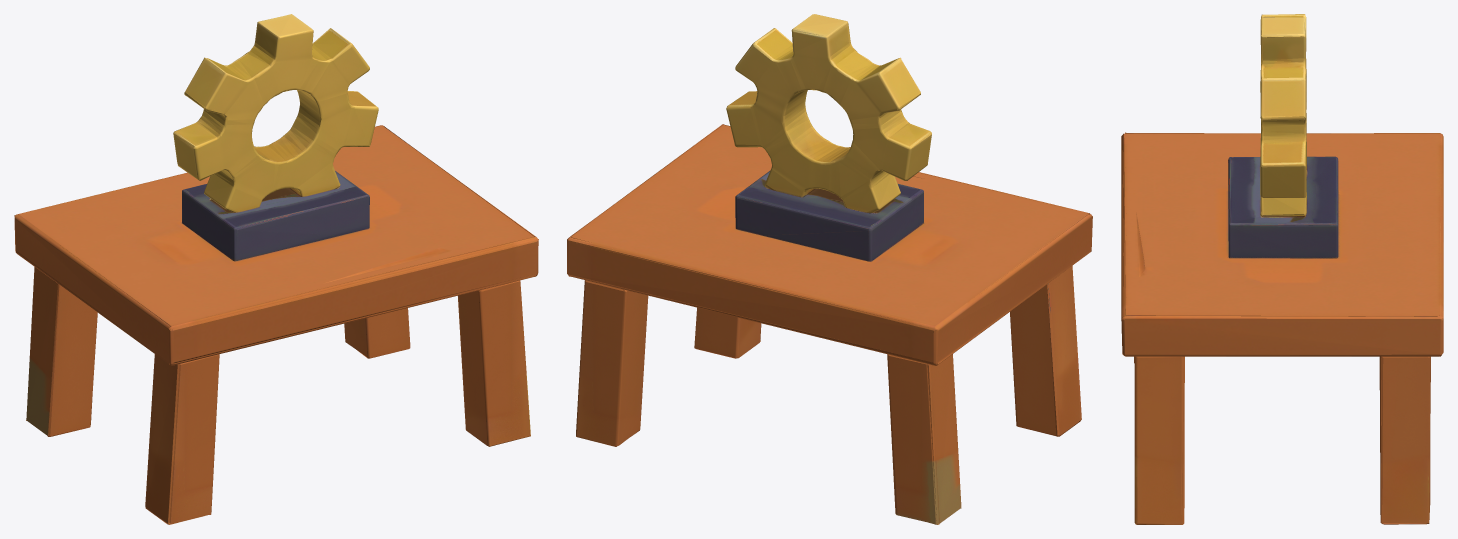
File: engineeringBench.glb
3 renders of one model, left to right at view 1: azimuth 30°, elevation 25°; view 2: azimuth 150°, elevation 25°; view 3: azimuth 270°, elevation 25°, orthographic. The views are drawn at different scales.
Size of the model in its own units: 0.9668 by 1 by 0.709.
Materials: 1 (1 with a texture image).
